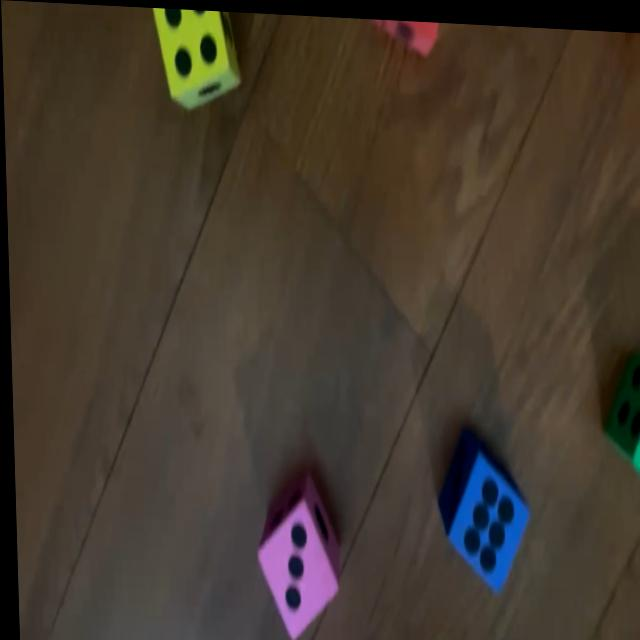blue_block: (433, 427, 527, 591)
red_block: (371, 15, 438, 51)
